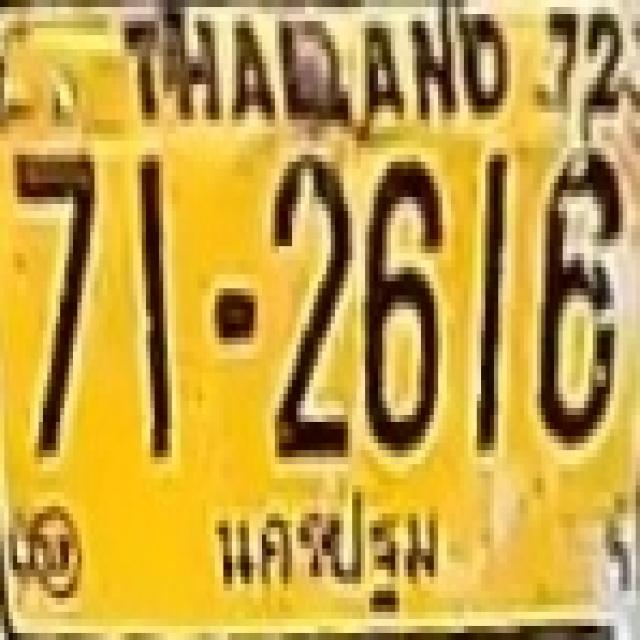1: (138, 151, 168, 454), (138, 158, 168, 454), (477, 151, 502, 447)
2: (271, 155, 348, 450)
6: (537, 144, 618, 440), (361, 158, 438, 447)
7: (11, 148, 92, 450)
NPT: (211, 480, 444, 616)
